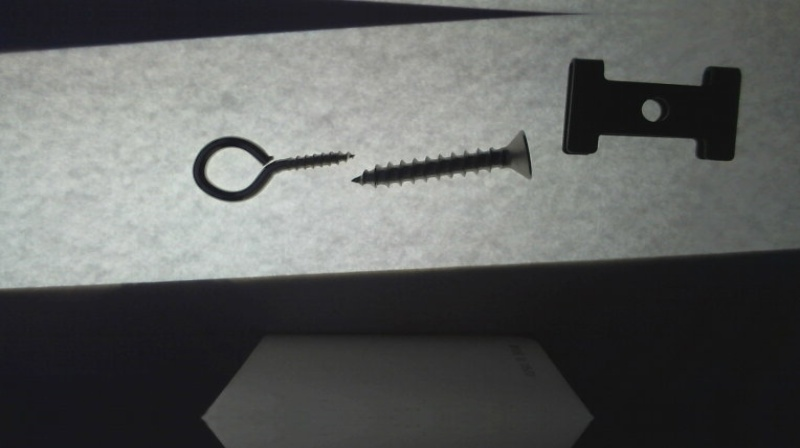O001: (191, 133, 353, 201)
O002: (559, 57, 741, 160)
S001: (349, 129, 532, 188)
